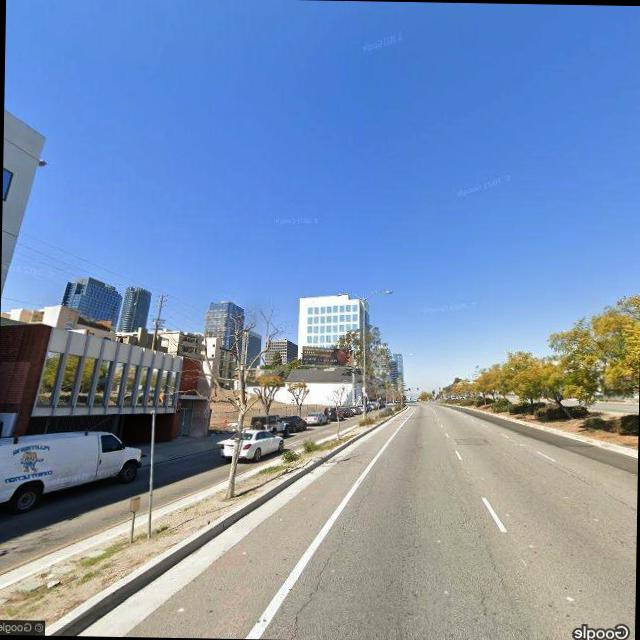crack: (274, 489, 371, 637), (453, 499, 537, 640)
